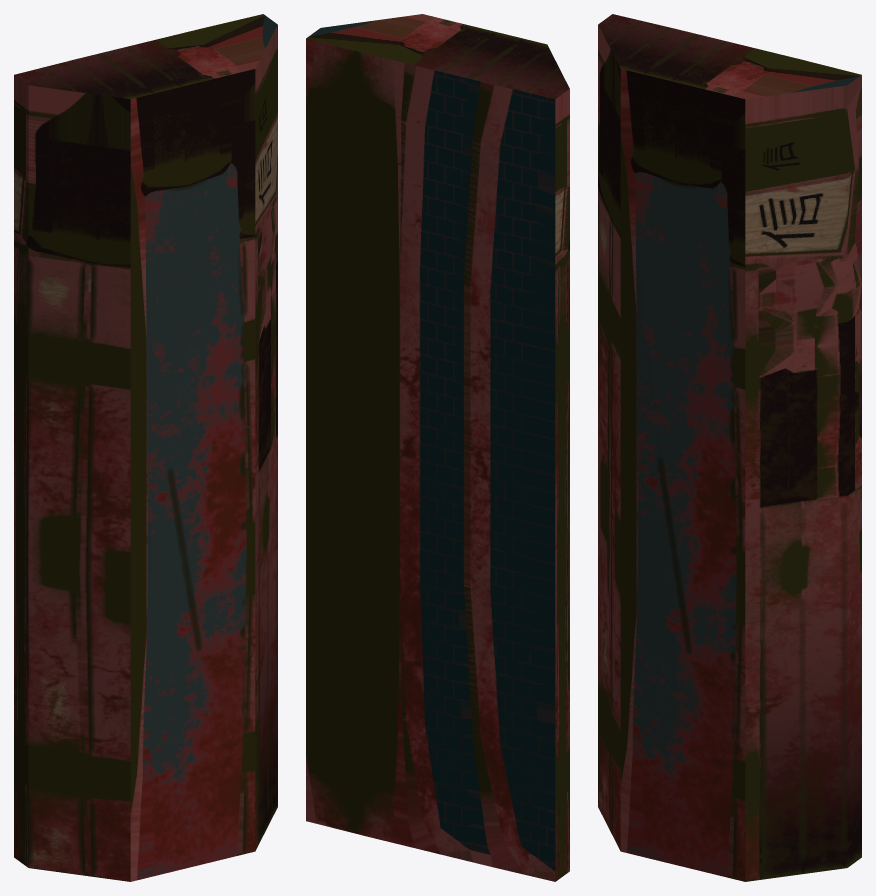
The model's file is pilastra 3 M.fbx.
3 views of the same model, side by side, from view 1: azimuth 30°, elevation 25°; view 2: azimuth 150°, elevation 25°; view 3: azimuth 330°, elevation 25° (orthographic).
Visible parts, largest first — view 1: Cube.005; view 2: Cube.005; view 3: Cube.005.
Part boxes in pixels (left/top/right/bottom): Cube.005: left=14, top=14, right=277, bottom=881; Cube.005: left=306, top=14, right=569, bottom=881; Cube.005: left=598, top=14, right=861, bottom=881.
Bounding box in the file's own units: 100 × 300 × 38.03.
